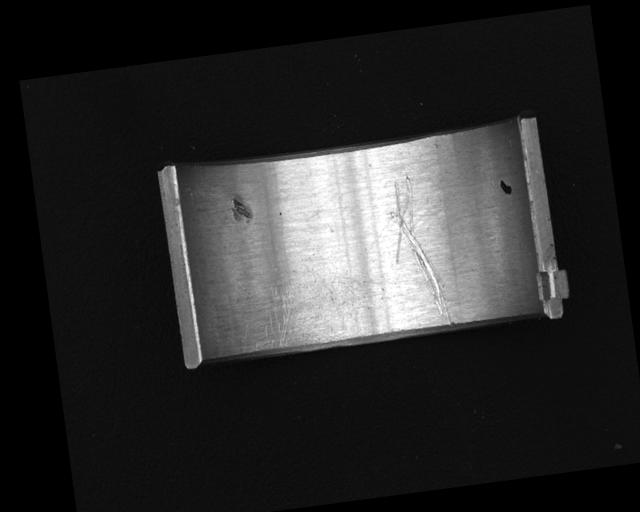blot: (497, 176, 514, 196)
bruise: (228, 194, 254, 224)
nick: (382, 169, 456, 330)
scratch: (239, 257, 363, 352)
